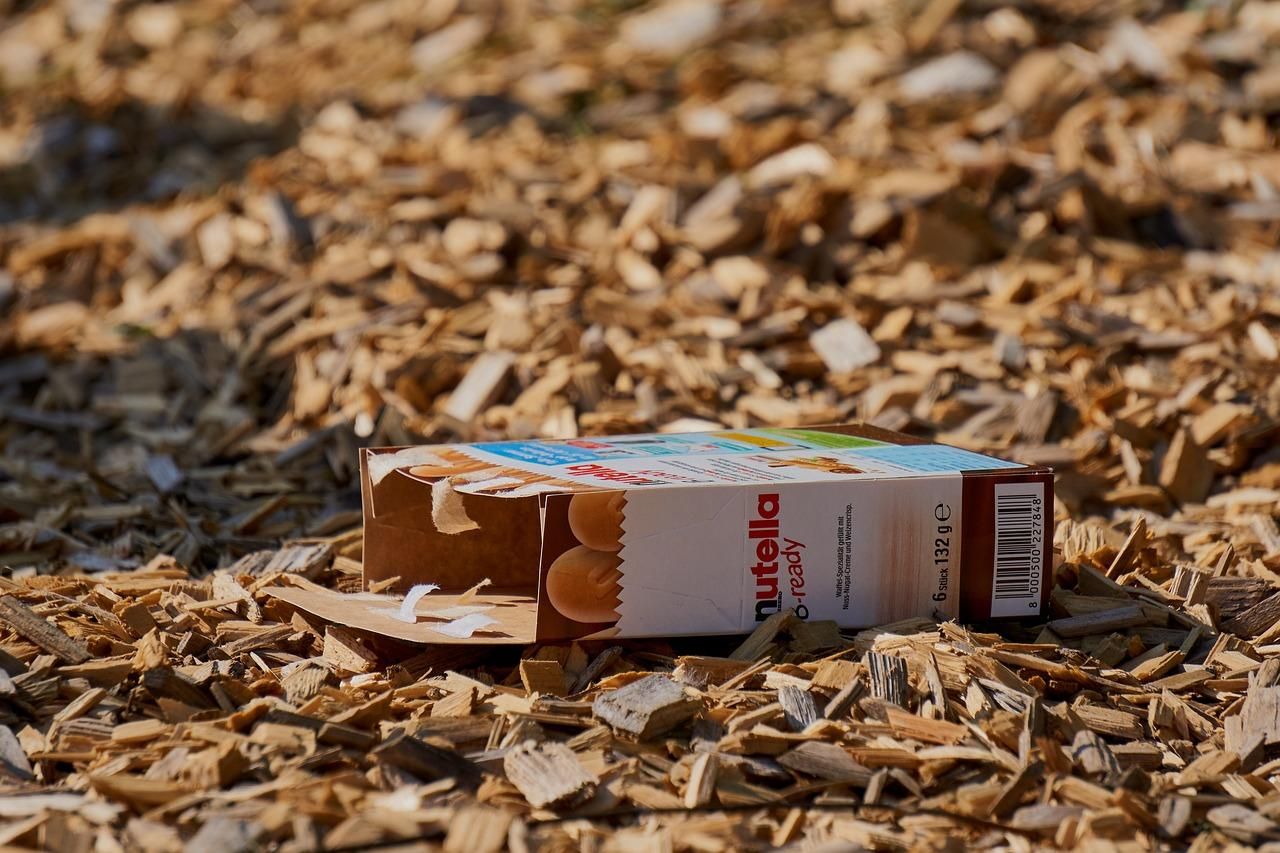Paper: (278, 427, 1054, 644)
